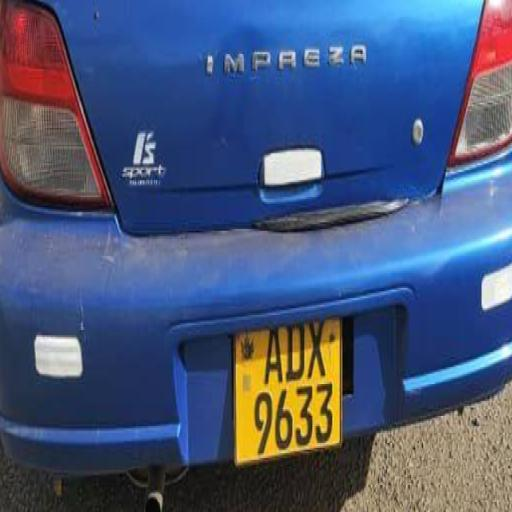number-plates: (236, 328, 336, 454)
